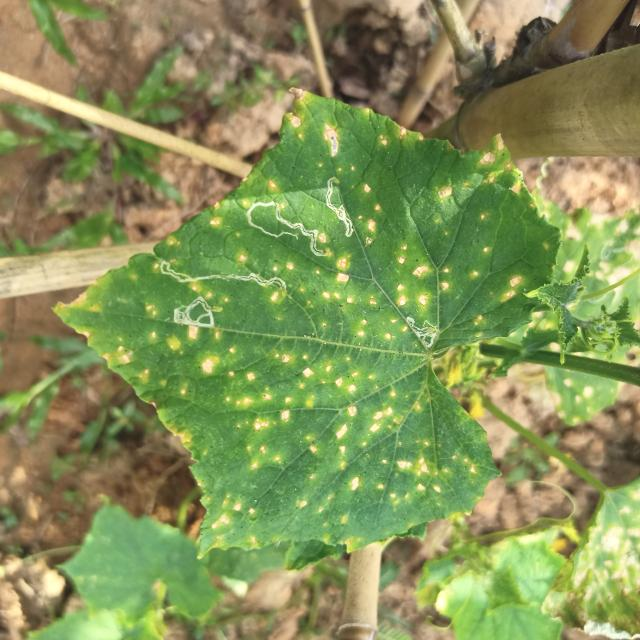disease_cucumber: (82, 317, 480, 528), (308, 252, 404, 344), (394, 222, 488, 309), (433, 138, 528, 200), (282, 83, 344, 156), (358, 175, 382, 246), (375, 122, 426, 149), (235, 252, 296, 272), (210, 200, 241, 237), (190, 280, 229, 302), (504, 270, 527, 302)
